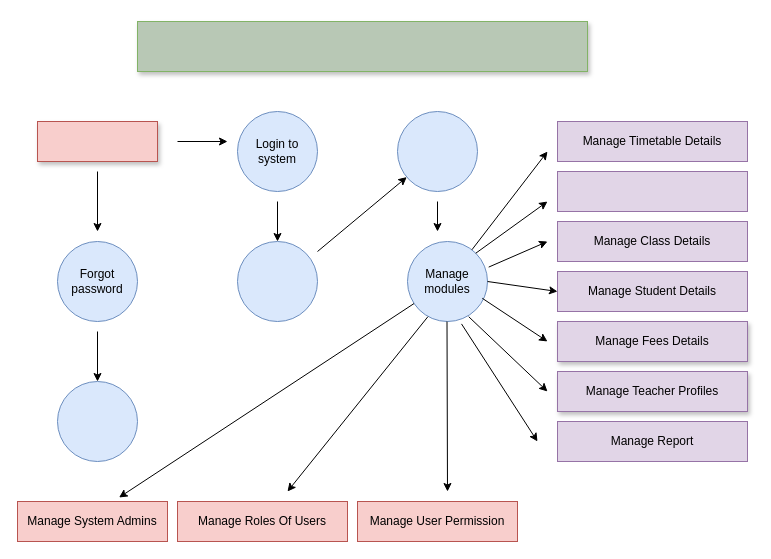
Image size: 771x559. Some labels were removed from this diagram. Here are the shapes that lost their labels. From the top down, the centre of each, then its label:
At point 363,47: "Student Information System".
At point 98,142: "Admin".
At point 437,151: "Check roles and access".
At point 652,191: "Manage Attendance Details".
At point 277,281: "Check credentials".
At point 97,421: "Send Email to user".
